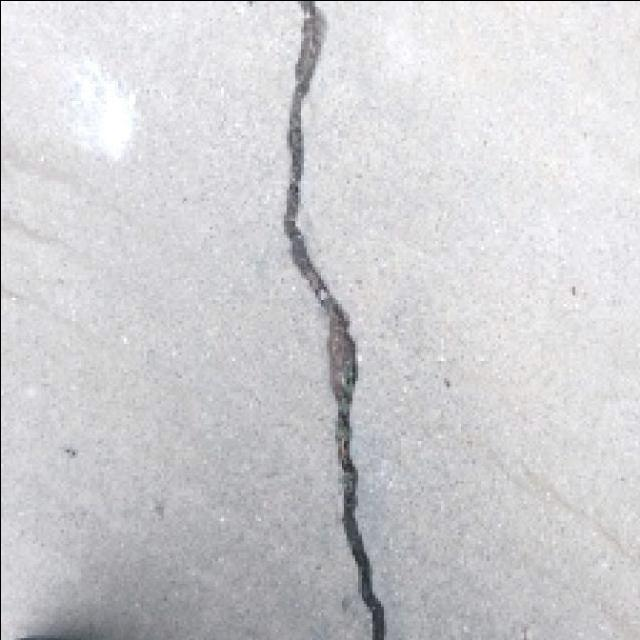SurfaceCrack: (252, 0, 408, 640)
